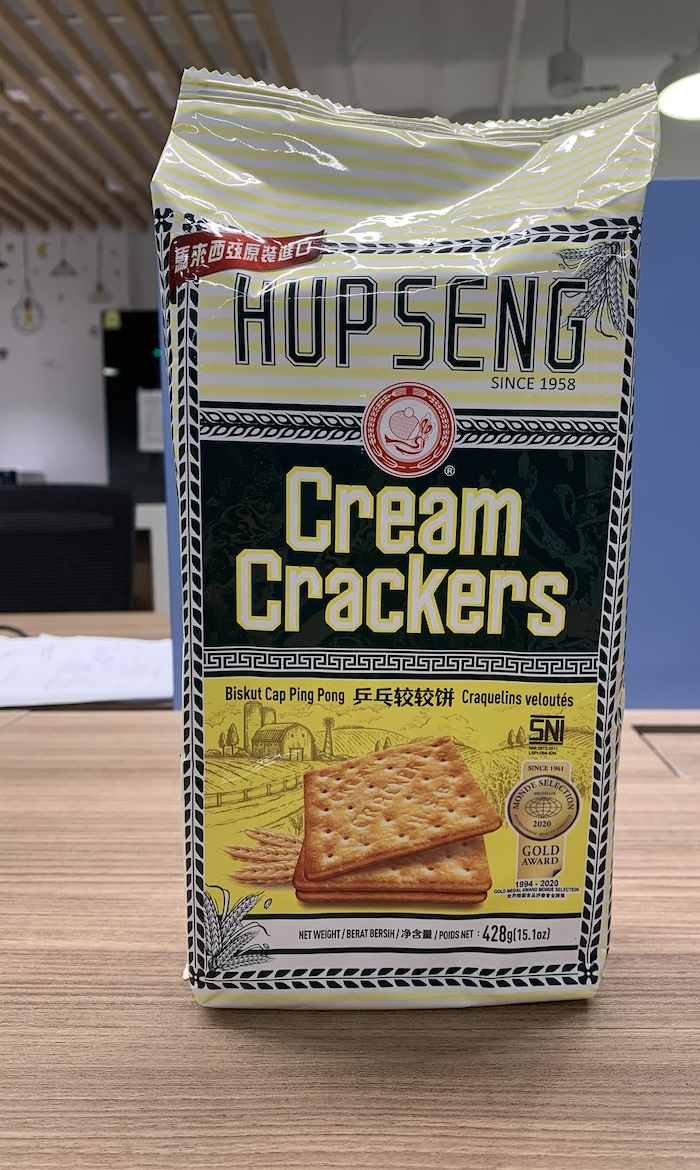crackers_450g: (178, 215, 618, 991)
